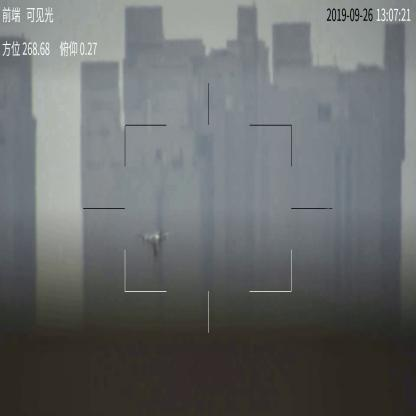uav: (135, 230, 173, 260)
